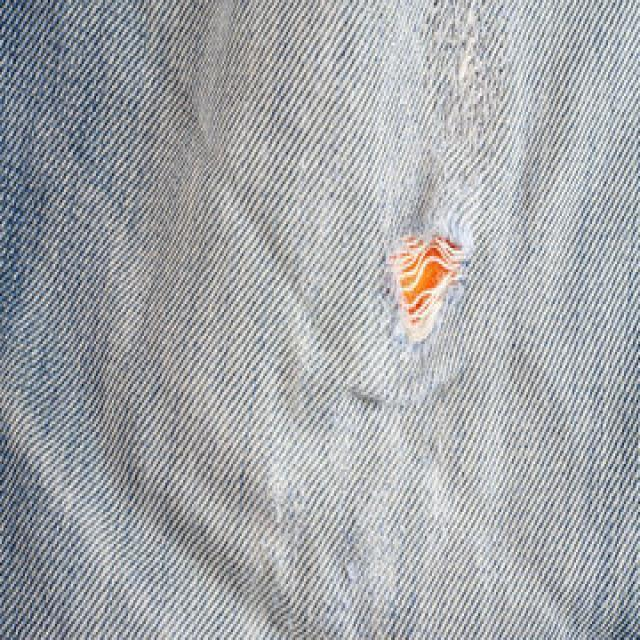Hole: (390, 236, 465, 342)
